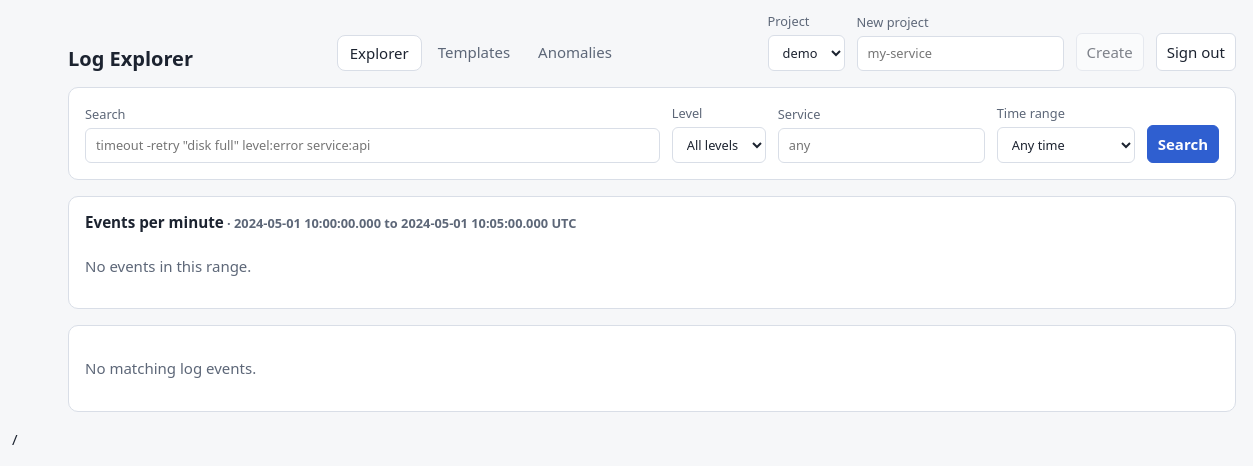
Scenario: projects › creates a project and selects it
The width and height of the screenshot is (1253, 466).
Expected: the text "No matching log events." is shown, x1=85 y1=358 x2=256 y2=378
Step 1. Type "fresh" into the field labelled "New project" → (960, 54), box x1=857 y1=36 x2=1064 y2=71
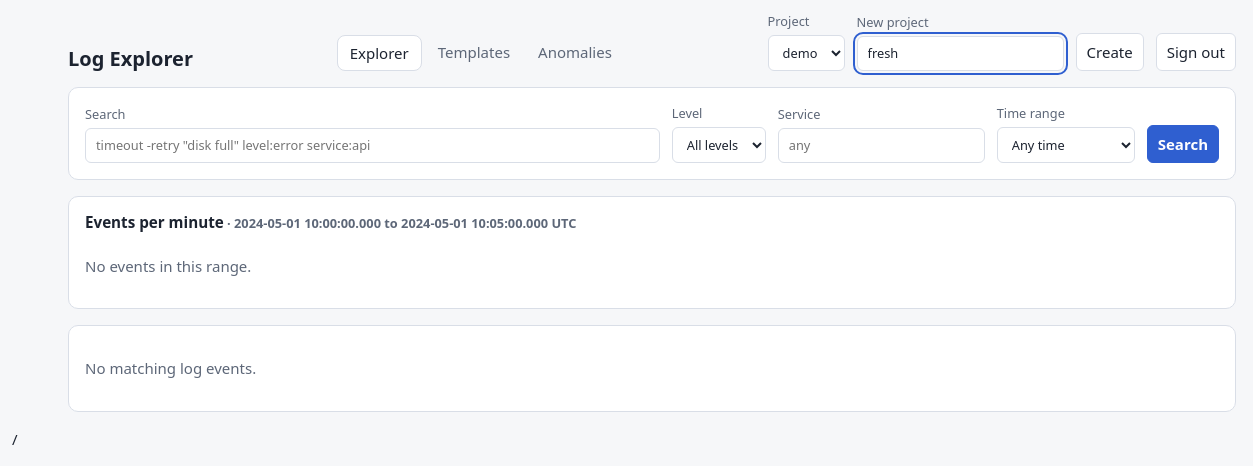
Step 2. Click the button "Create" → (1110, 52), box x1=1076 y1=33 x2=1144 y2=71
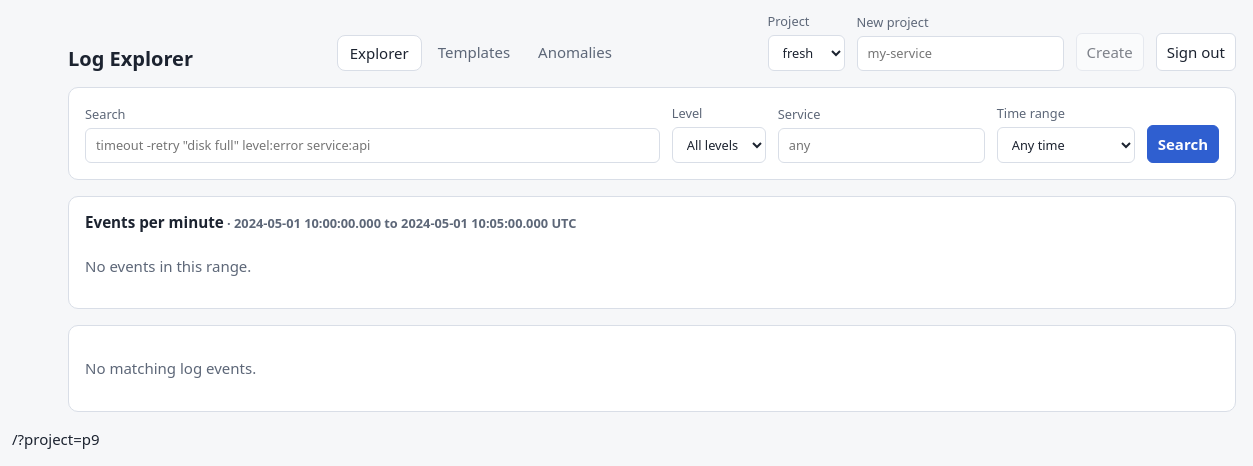
Result: the dropdown labelled "Project" shows "fresh" at x1=768 y1=35 x2=845 y2=71
